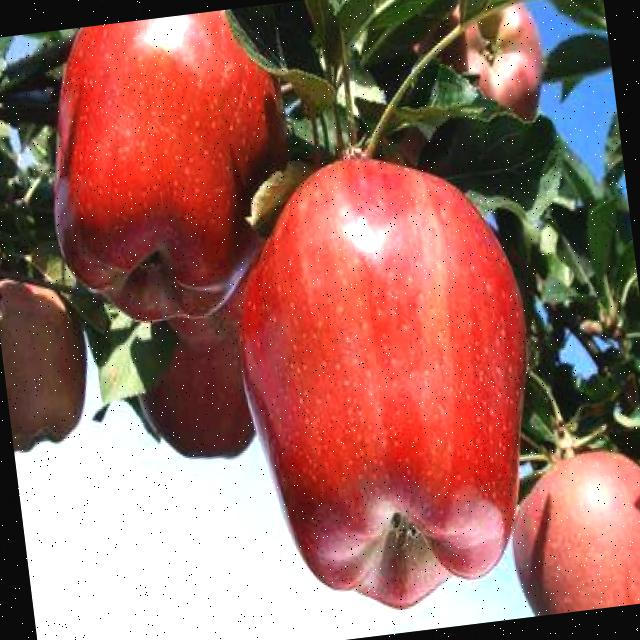apple: (190, 108, 586, 640), (20, 4, 306, 339), (116, 242, 300, 510), (464, 423, 640, 622), (0, 246, 106, 501), (405, 0, 563, 160)
